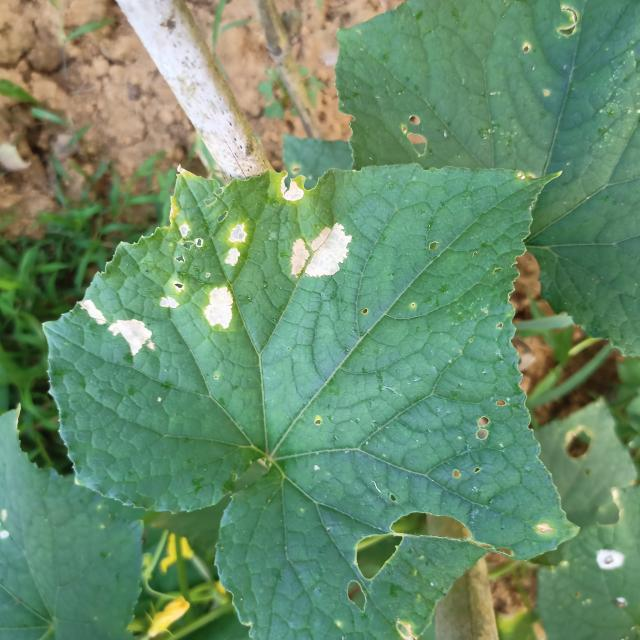disease_cucumber: (156, 203, 259, 335), (74, 294, 156, 358), (286, 221, 356, 290), (276, 174, 310, 206)
